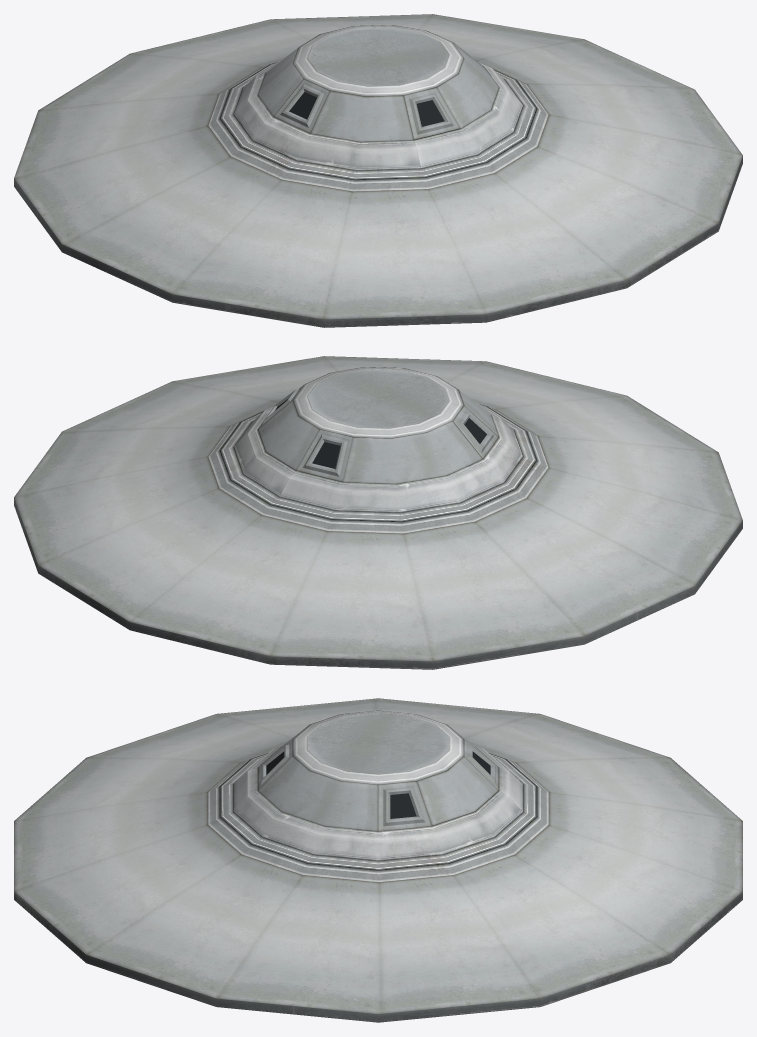
Rendered from flying_saucer.FBX.
3 views of the same model, one above another, from view 1: azimuth 30°, elevation 25°; view 2: azimuth 150°, elevation 25°; view 3: azimuth 270°, elevation 25° (orthographic). The views are drawn at different scales.
Parts seen in each view (by area): view 1: flying_saucer; view 2: flying_saucer; view 3: flying_saucer.
Part boxes in pixels (x1=…): flying_saucer: x1=14, y1=14, x2=742, y2=327; flying_saucer: x1=14, y1=356, x2=742, y2=669; flying_saucer: x1=14, y1=698, x2=742, y2=1022.
Size of the model in its own units: 138 by 42.14 by 135.
